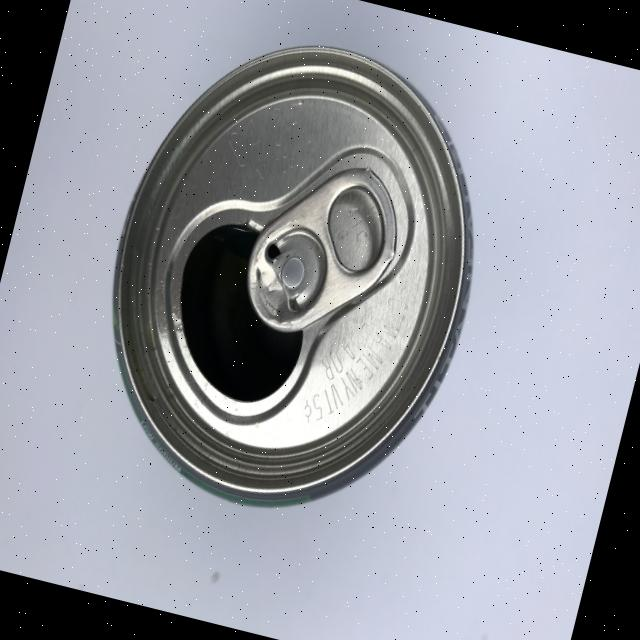metal: (64, 6, 521, 543)
